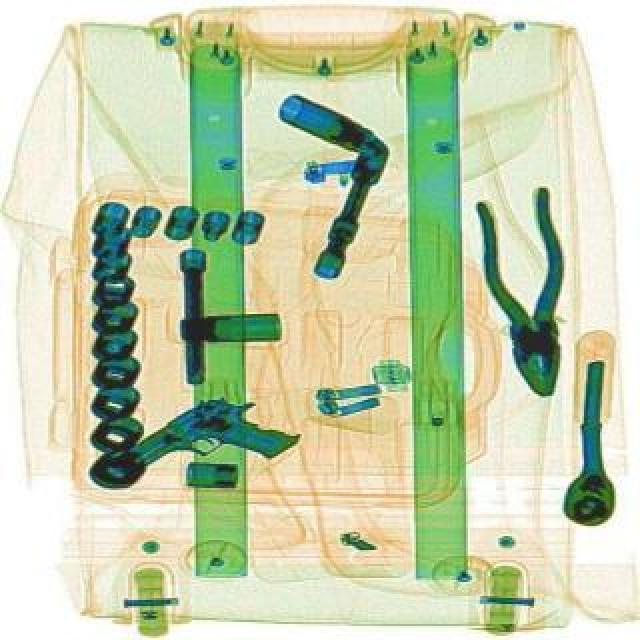gun: (102, 370, 302, 534)
wrench: (468, 184, 580, 400)
